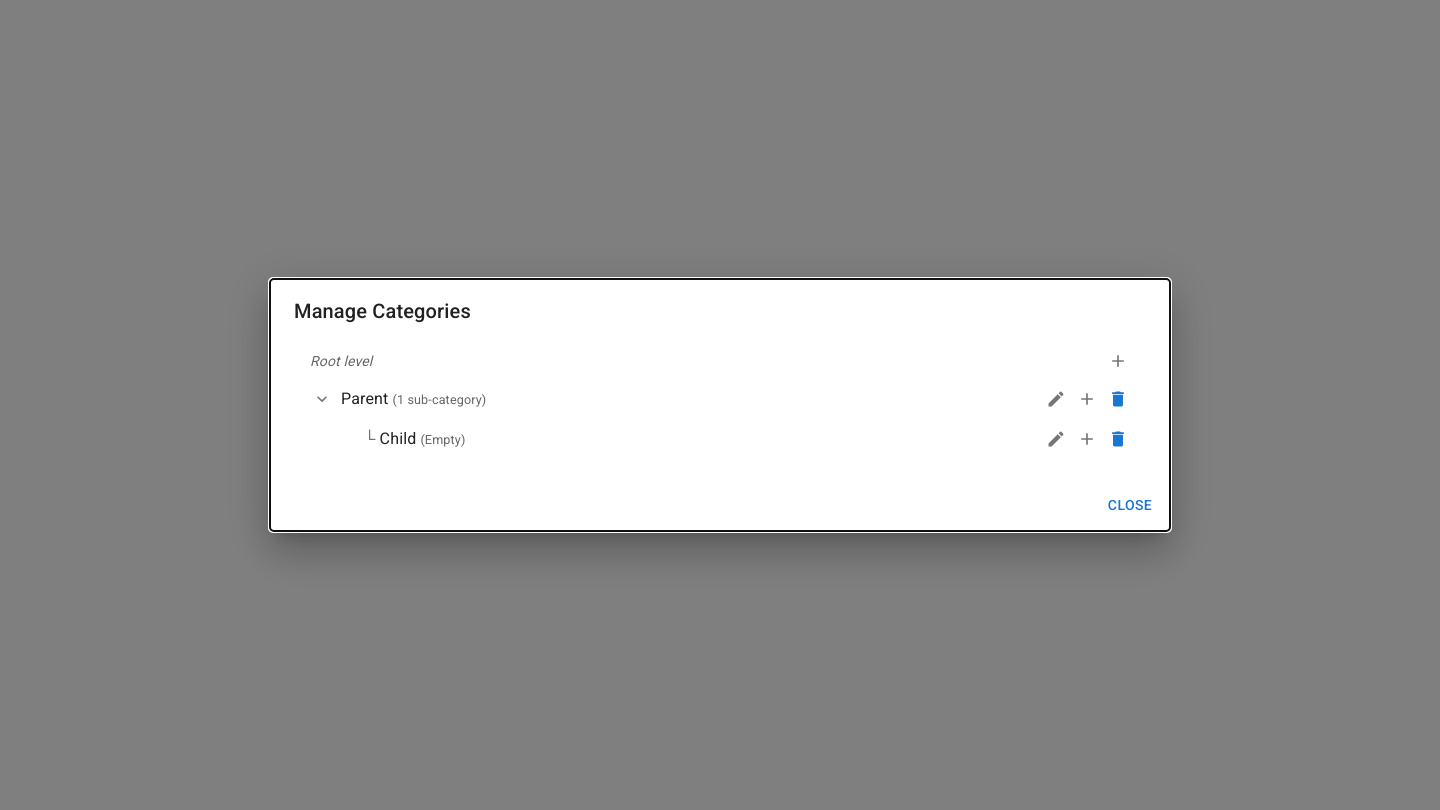
Test: ManageCategoriesDialog — basics › collapses child categories when the collapse control is clicked
Click the button named "Collapse Parent" at (322, 399), box [307,384,337,414]
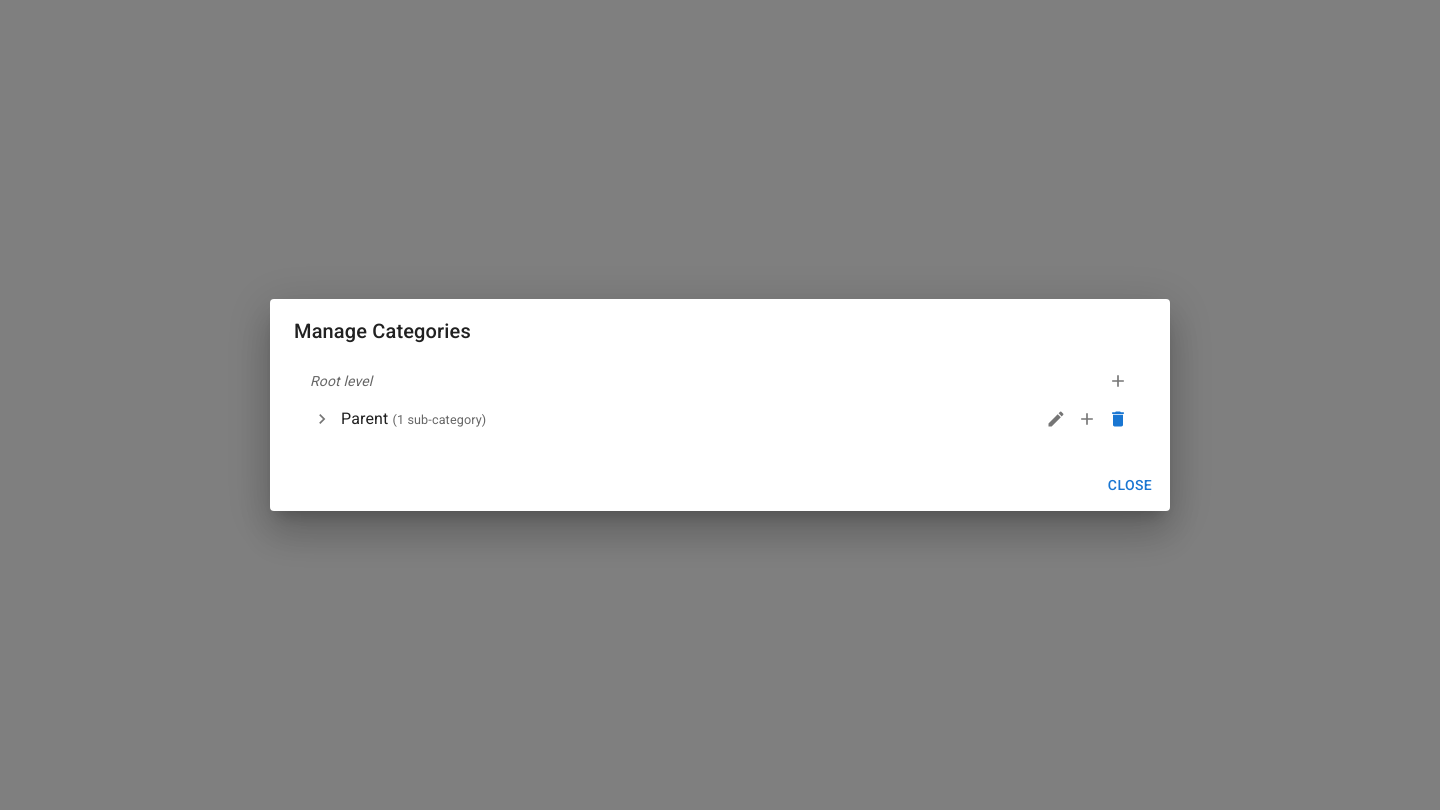
Check: the text "Child" is gone
Check: the button named "Expand Parent" is shown, box [307,404,337,434]
